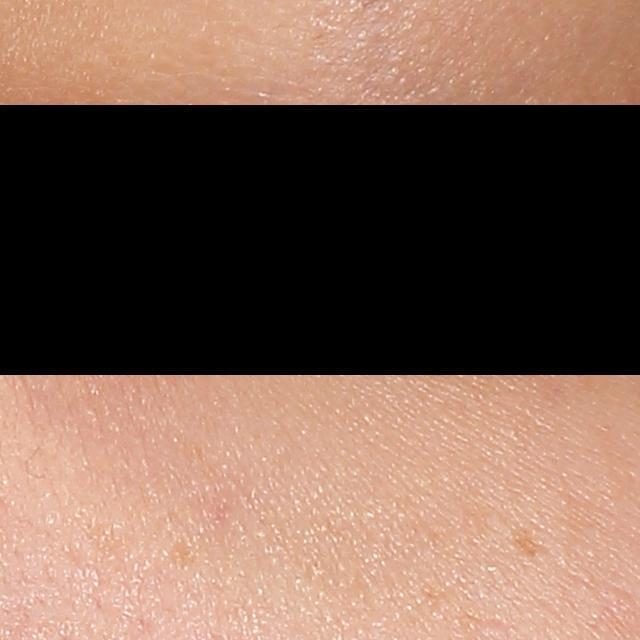melasma: (507, 526, 558, 560)
